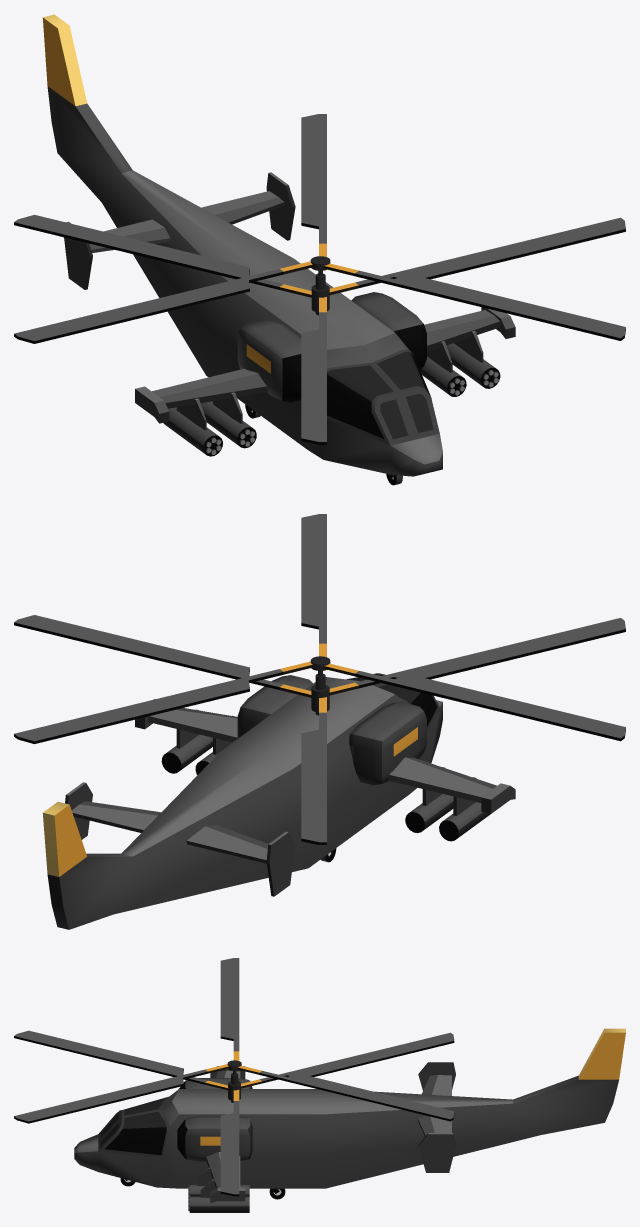
The model's file is Heli_2.fbx.
The picture shows the model from 3 angles, top to bottom: view 1: azimuth 30°, elevation 25°; view 2: azimuth 150°, elevation 25°; view 3: azimuth 270°, elevation 25°; orthographic projection. The views are drawn at different scales.
Visible parts, largest first — view 1: Body, Rotor_Twin_Upper, Rotor_Twin_Lower; view 2: Body, Rotor_Twin_Upper, Rotor_Twin_Lower; view 3: Body, Rotor_Twin_Upper, Rotor_Twin_Lower.
Boxes of the visible parts, x1=… form: Body: x1=42, y1=14, x2=515, y2=485; Rotor_Twin_Upper: x1=14, y1=114, x2=625, y2=343; Rotor_Twin_Lower: x1=14, y1=214, x2=625, y2=444; Body: x1=42, y1=673, x2=515, y2=929; Rotor_Twin_Upper: x1=14, y1=514, x2=625, y2=743; Rotor_Twin_Lower: x1=14, y1=615, x2=625, y2=844; Body: x1=74, y1=1028, x2=625, y2=1212; Rotor_Twin_Upper: x1=14, y1=958, x2=454, y2=1123; Rotor_Twin_Lower: x1=14, y1=1030, x2=454, y2=1196.
Size of the model in its own units: 1448 by 490 by 1757.
